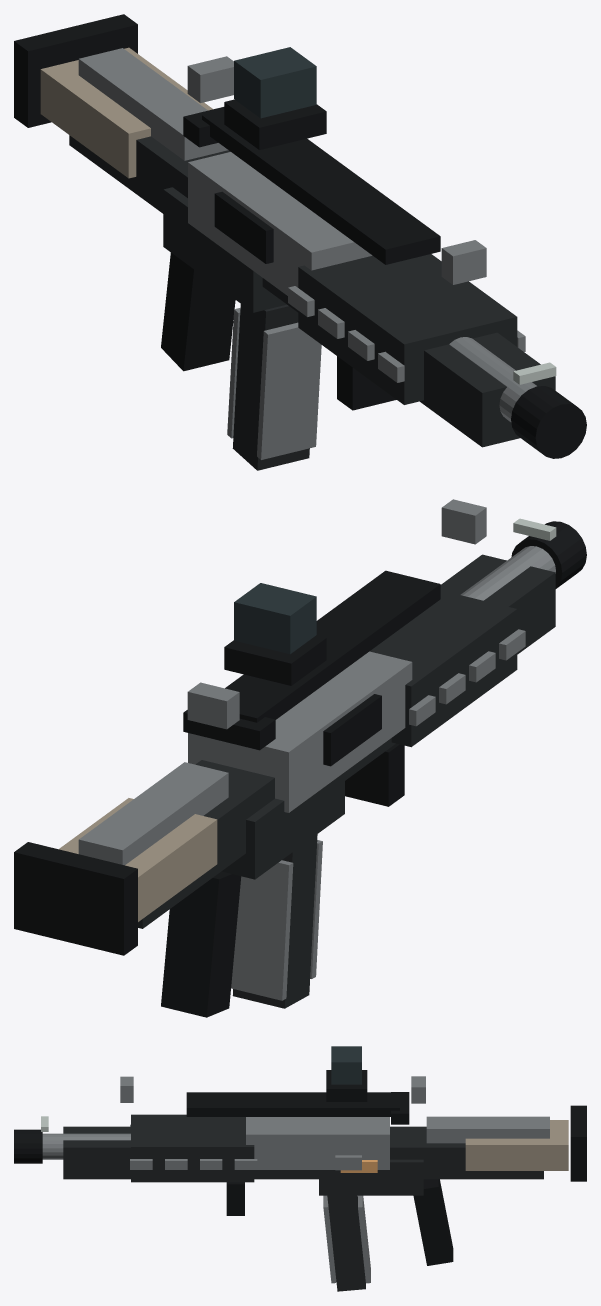
File: wpn_a2_blackout_carbine_01.glb
3 views of the same model, one above another, from view 1: azimuth 30°, elevation 25°; view 2: azimuth 150°, elevation 25°; view 3: azimuth 270°, elevation 25° (orthographic). The views are drawn at different scales.
Parts seen in each view (by area): view 1: wpn_a2_blackout_carbine_01_lod0_compact_handguard, wpn_a2_blackout_carbine_01_lod0_flush_top_rail, wpn_a2_blackout_carbine_01_lod1_blockout, wpn_a2_blackout_carbine_01_lod0_upper_receiver, wpn_a2_blackout_carbine_01_lod0_magazine_front_rib, wpn_a2_blackout_carbine_01_lod0_minimal_stock, wpn_a2_blackout_carbine_01_lod0_buffer_tube, wpn_a2_blackout_carbine_01_lod0_grip, wpn_a2_blackout_carbine_01_lod0_stock_pad, wpn_a2_blackout_carbine_01_lod0_lower_receiver, wpn_a2_blackout_carbine_01_lod0_magazine, wpn_a2_blackout_carbine_01_lod0_micro_optic_body (+10 smaller); view 2: wpn_a2_blackout_carbine_01_lod0_upper_receiver, wpn_a2_blackout_carbine_01_lod0_stock_pad, wpn_a2_blackout_carbine_01_lod0_compact_handguard, wpn_a2_blackout_carbine_01_lod0_flush_top_rail, wpn_a2_blackout_carbine_01_lod1_blockout, wpn_a2_blackout_carbine_01_lod0_grip, wpn_a2_blackout_carbine_01_lod0_buffer_tube, wpn_a2_blackout_carbine_01_lod0_magazine_rear_rib, wpn_a2_blackout_carbine_01_lod0_minimal_stock, wpn_a2_blackout_carbine_01_lod0_lower_receiver, wpn_a2_blackout_carbine_01_lod0_micro_optic_body, wpn_a2_blackout_carbine_01_lod0_magazine (+9 smaller); view 3: wpn_a2_blackout_carbine_01_lod1_blockout, wpn_a2_blackout_carbine_01_lod0_compact_handguard, wpn_a2_blackout_carbine_01_lod0_upper_receiver, wpn_a2_blackout_carbine_01_lod0_flush_top_rail, wpn_a2_blackout_carbine_01_lod0_minimal_stock, wpn_a2_blackout_carbine_01_lod0_buffer_tube, wpn_a2_blackout_carbine_01_lod0_lower_receiver, wpn_a2_blackout_carbine_01_lod0_magazine, wpn_a2_blackout_carbine_01_lod0_grip, wpn_a2_blackout_carbine_01_lod0_stock_pad, wpn_a2_blackout_carbine_01_lod0_micro_optic_body, wpn_a2_blackout_carbine_01_lod0_short_barrel (+9 smaller).
Part boxes in pixels (x1,y1,x2,y2): wpn_a2_blackout_carbine_01_lod0_compact_handguard: (298, 254, 517, 404); wpn_a2_blackout_carbine_01_lod0_flush_top_rail: (202, 110, 440, 264); wpn_a2_blackout_carbine_01_lod1_blockout: (69, 135, 555, 447); wpn_a2_blackout_carbine_01_lod0_upper_receiver: (188, 152, 372, 295); wpn_a2_blackout_carbine_01_lod0_magazine_front_rib: (257, 322, 321, 459); wpn_a2_blackout_carbine_01_lod0_minimal_stock: (40, 47, 212, 178); wpn_a2_blackout_carbine_01_lod0_buffer_tube: (78, 48, 228, 160); wpn_a2_blackout_carbine_01_lod0_grip: (161, 252, 235, 371); wpn_a2_blackout_carbine_01_lod0_stock_pad: (14, 14, 137, 127); wpn_a2_blackout_carbine_01_lod0_lower_receiver: (163, 187, 286, 312); wpn_a2_blackout_carbine_01_lod0_magazine: (232, 304, 309, 470); wpn_a2_blackout_carbine_01_lod0_micro_optic_body: (234, 47, 316, 118); wpn_a2_blackout_carbine_01_lod0_upper_receiver: (188, 651, 412, 812); wpn_a2_blackout_carbine_01_lod0_stock_pad: (14, 842, 137, 955); wpn_a2_blackout_carbine_01_lod0_compact_handguard: (370, 590, 517, 747); wpn_a2_blackout_carbine_01_lod0_flush_top_rail: (225, 570, 440, 722); wpn_a2_blackout_carbine_01_lod1_blockout: (138, 554, 555, 928); wpn_a2_blackout_carbine_01_lod0_grip: (161, 871, 241, 1017); wpn_a2_blackout_carbine_01_lod0_buffer_tube: (78, 762, 228, 865); wpn_a2_blackout_carbine_01_lod0_magazine_rear_rib: (231, 860, 293, 1000); wpn_a2_blackout_carbine_01_lod0_minimal_stock: (59, 798, 217, 921); wpn_a2_blackout_carbine_01_lod0_lower_receiver: (222, 772, 344, 879); wpn_a2_blackout_carbine_01_lod0_micro_optic_body: (234, 583, 316, 654); wpn_a2_blackout_carbine_01_lod0_magazine: (232, 834, 317, 1008); wpn_a2_blackout_carbine_01_lod1_blockout: (63, 1126, 543, 1179); wpn_a2_blackout_carbine_01_lod0_compact_handguard: (131, 1114, 254, 1182); wpn_a2_blackout_carbine_01_lod0_upper_receiver: (246, 1117, 389, 1169); wpn_a2_blackout_carbine_01_lod0_flush_top_rail: (186, 1092, 399, 1116); wpn_a2_blackout_carbine_01_lod0_minimal_stock: (465, 1120, 568, 1170); wpn_a2_blackout_carbine_01_lod0_buffer_tube: (426, 1116, 549, 1143); wpn_a2_blackout_carbine_01_lod0_lower_receiver: (319, 1159, 423, 1195); wpn_a2_blackout_carbine_01_lod0_magazine: (327, 1195, 365, 1291); wpn_a2_blackout_carbine_01_lod0_grip: (413, 1179, 453, 1265); wpn_a2_blackout_carbine_01_lod0_stock_pad: (570, 1105, 586, 1181); wpn_a2_blackout_carbine_01_lod0_micro_optic_body: (331, 1046, 361, 1084); wpn_a2_blackout_carbine_01_lod0_short_barrel: (42, 1133, 130, 1159).
Bounding box in the file's own units: 0.21 × 0.6178 × 1.39.
